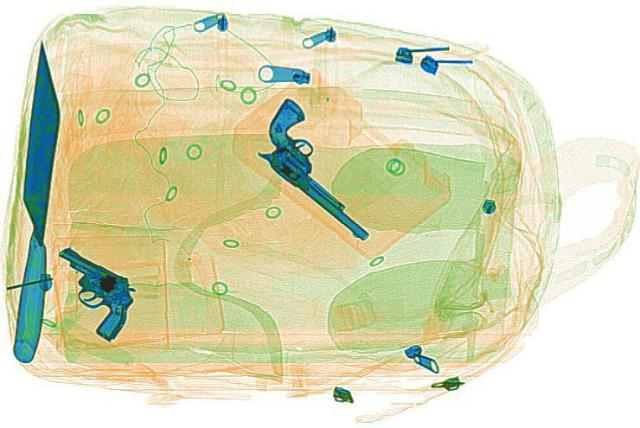Gun: (220, 95, 424, 240), (5, 244, 167, 339)
Knife: (8, 40, 60, 360)
